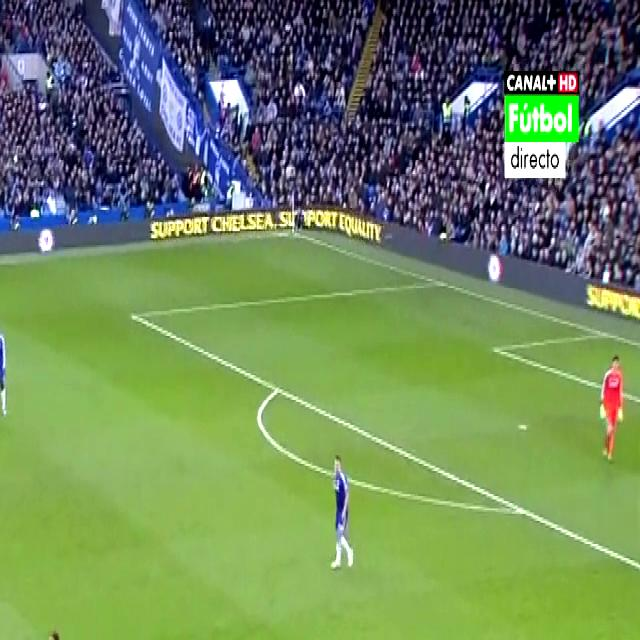goalkeeper: (597, 350, 630, 460)
soccer-player: (321, 436, 361, 573), (42, 608, 85, 640), (0, 320, 13, 421)
